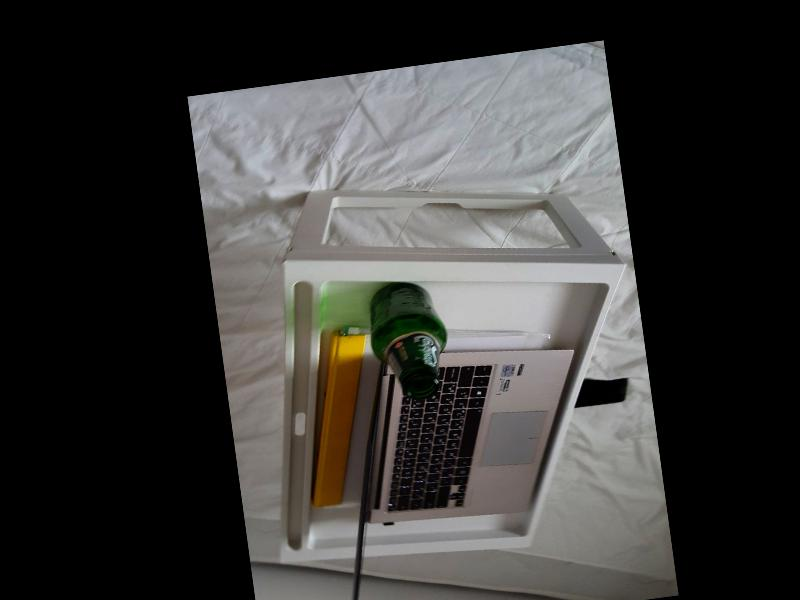Beer: (364, 276, 452, 403)
